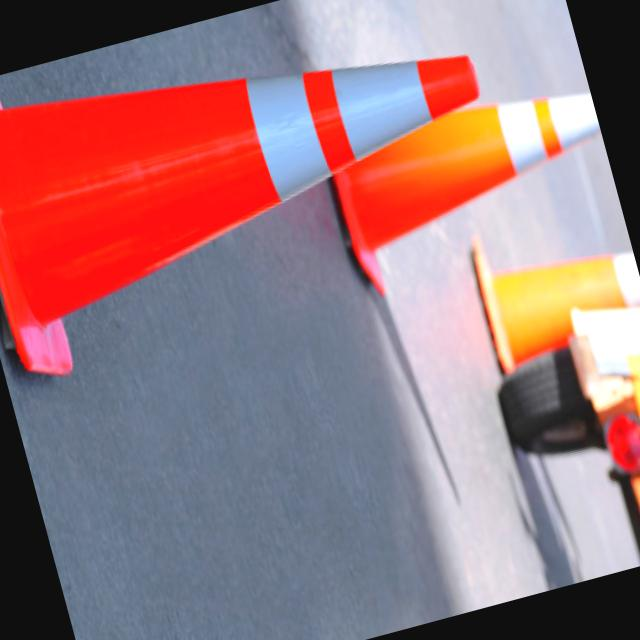cone: (0, 0, 546, 363)
